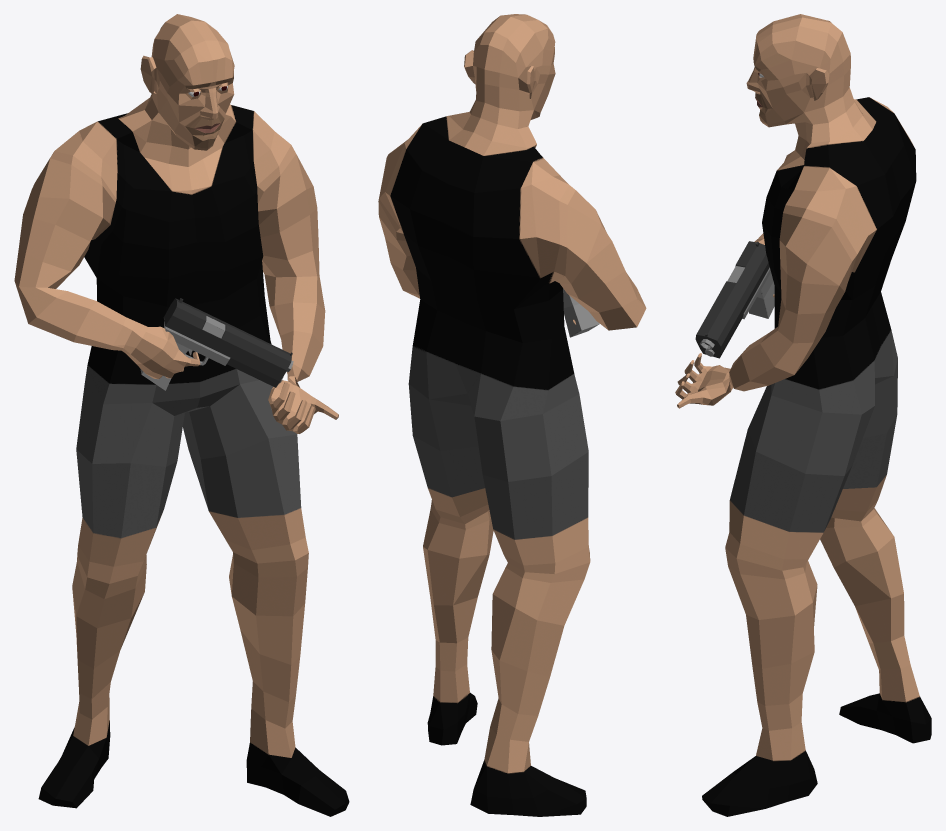
File: PlayerIdle(58).obj
The picture shows the model from 3 angles, left to right: view 1: azimuth 30°, elevation 25°; view 2: azimuth 150°, elevation 25°; view 3: azimuth 270°, elevation 25°; orthographic projection. The views are drawn at different scales.
Parts seen in each view (by area): view 1: Plane002, Box003; view 2: Plane002, Box003; view 3: Plane002, Box003.
Part boxes in pixels (left/top/right/bottom): Plane002: left=14, top=14, right=349, bottom=816; Box003: left=140, top=298, right=293, bottom=390; Plane002: left=378, top=14, right=646, bottom=816; Box003: left=563, top=288, right=599, bottom=337; Plane002: left=675, top=14, right=931, bottom=816; Box003: left=695, top=241, right=774, bottom=358.
Size of the model in its own units: 671 by 1801 by 562.
